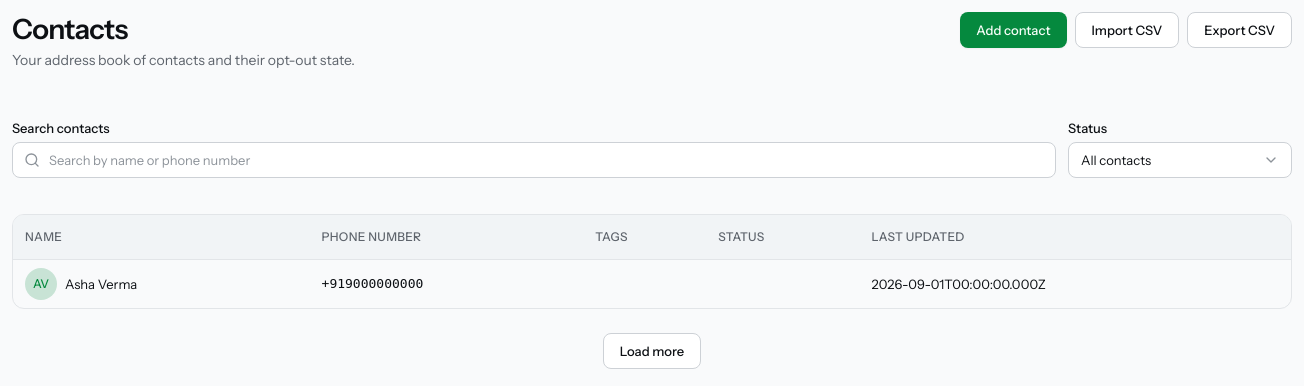
it: ContactsList › load more fetches the next keyset page and appends rows
expect the text "Asha Verma" is shown: met, box top-left (65, 274), bottom-right (137, 294)
Click the button with test id "contacts-load-more".
click(652, 350)  # box top-left (603, 332), bottom-right (701, 368)
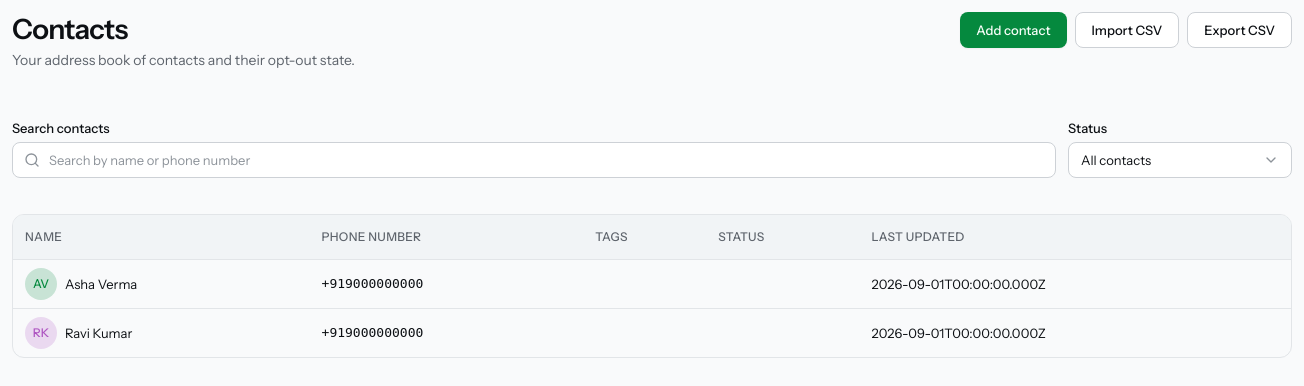
expect the text "Asha Verma" is shown: met, box top-left (65, 274), bottom-right (137, 294)
expect the text "Ravi Kumar" is shown: met, box top-left (65, 322), bottom-right (132, 342)
